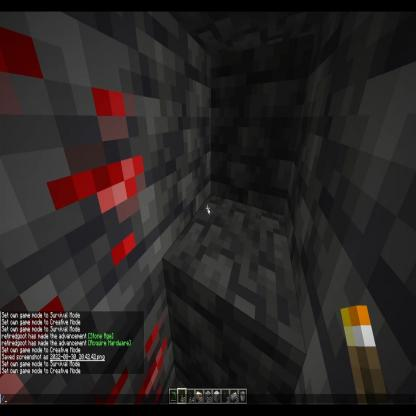redstone ore: (0, 26, 162, 416), (94, 262, 178, 416)
